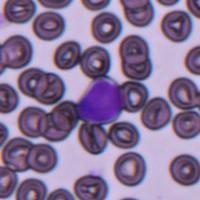L: (76, 76, 124, 124)
